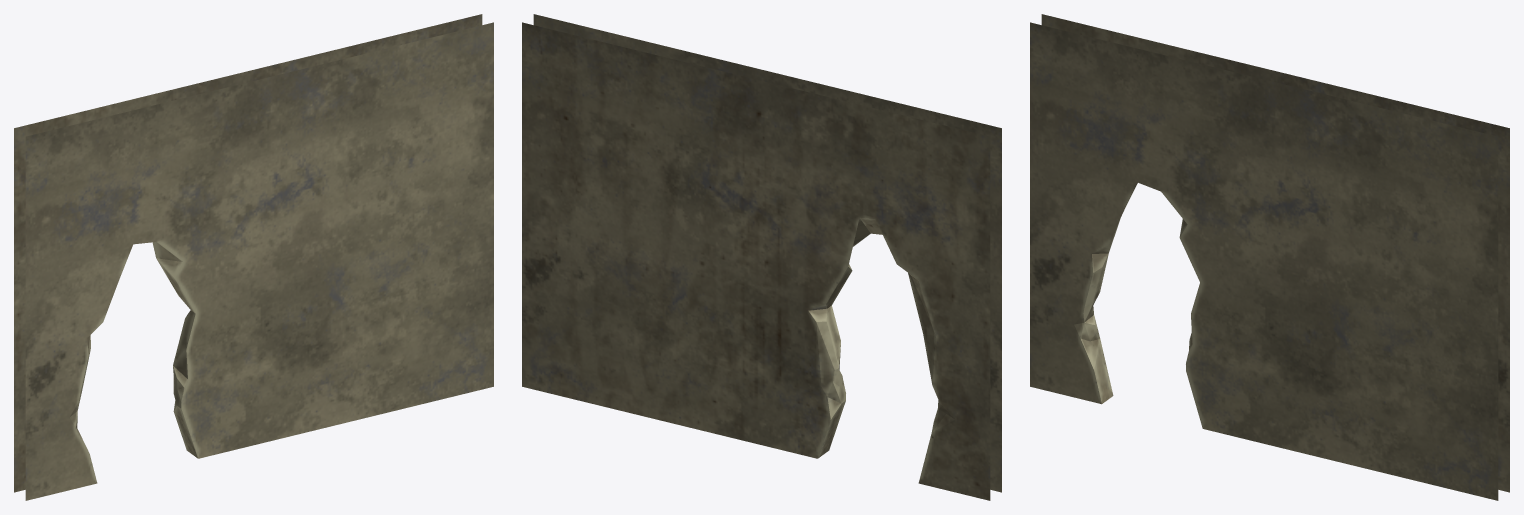
The model's file is Support House Broken Wall.fbx.
3 renders of one model, left to right at view 1: azimuth 30°, elevation 25°; view 2: azimuth 150°, elevation 25°; view 3: azimuth 330°, elevation 25°, orthographic.
Parts seen in each view (by area): view 1: Parede com buraco; view 2: Parede com buraco; view 3: Parede com buraco.
Part boxes in pixels (<box>): Parede com buraco: <box>14,14,493,500</box>; Parede com buraco: <box>522,14,1001,500</box>; Parede com buraco: <box>1030,14,1509,500</box>.
Size of the model in its own units: 471 by 350 by 20.03.
